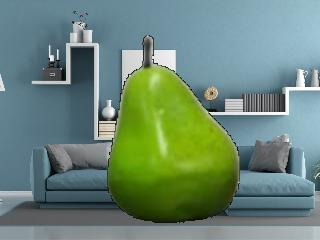pear: (106, 34, 240, 223)
